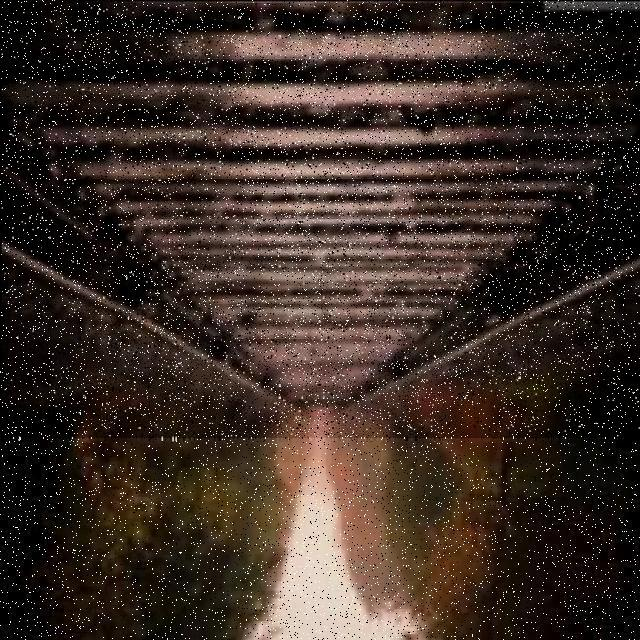rail: (1, 4, 640, 439)
